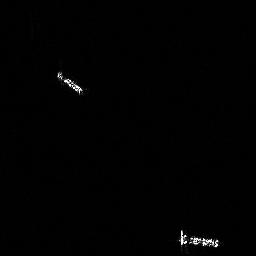ship: (175, 225, 225, 252), (53, 67, 89, 97)
